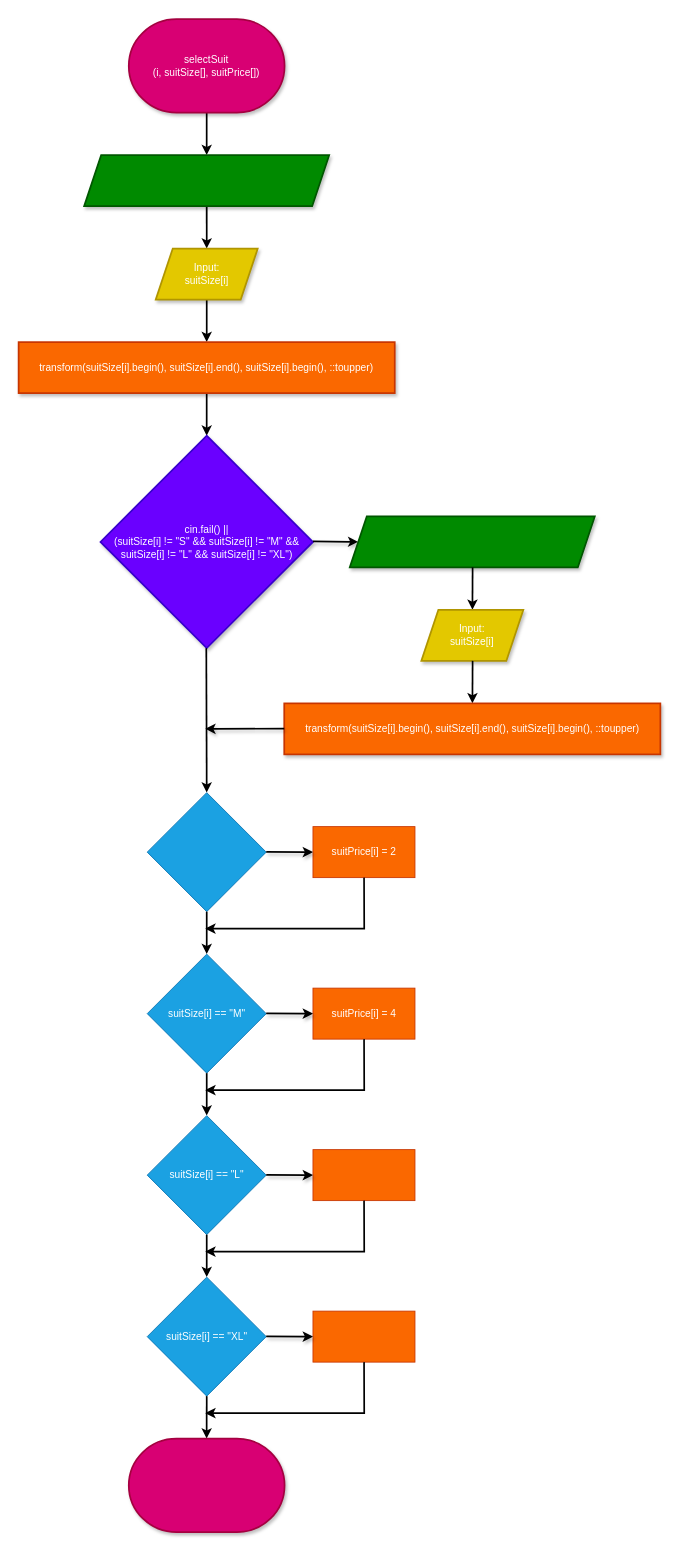
Some shapes in this 681 by 1553 pixel diagram are drawn without their labels. The centre of each missing label's shape, as x and y in pixels:
Prompt: "Please choose your suit size (S/M/L/XL): ": [207,181]
Prompt: "Please enter a valid suit size (S/M/L/XL): ": [472,543]
return suitPrice[i]: [207,1486]
suitPrice[i] = 6: [363,1175]
suitPrice[i] = 8: [363,1336]
suitSize[i] == "S": [206,852]
